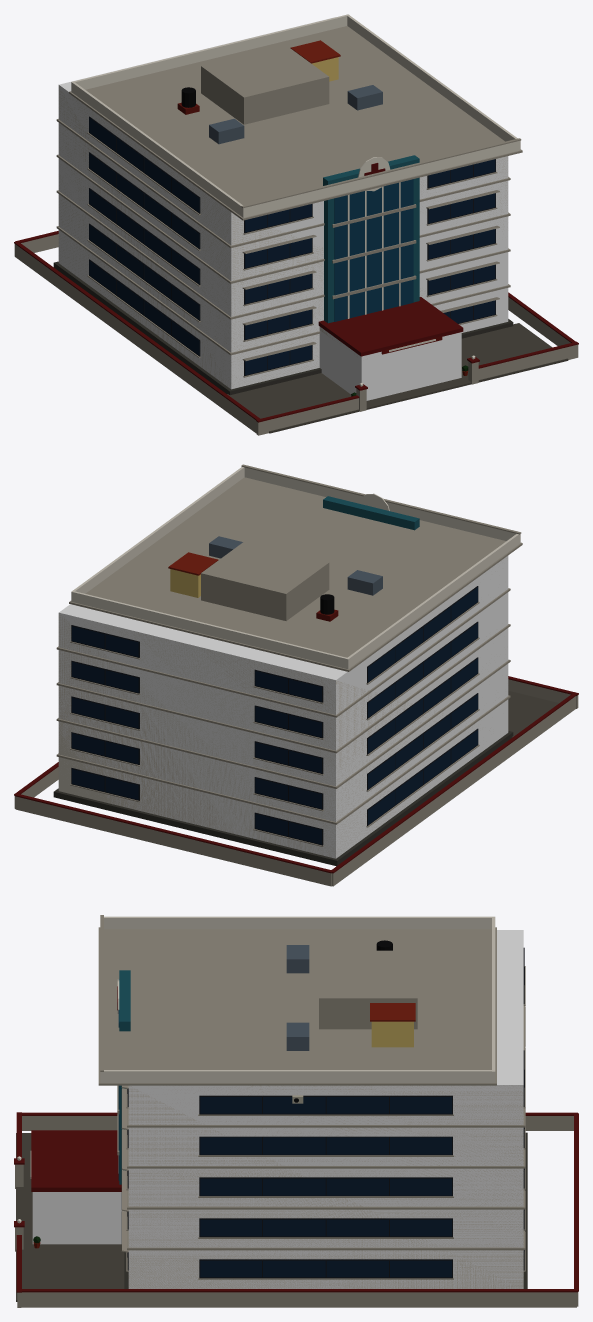
The model's file is B17_hospital_multi.glb.
3 renders of one model, top to bottom at view 1: azimuth 30°, elevation 25°; view 2: azimuth 150°, elevation 25°; view 3: azimuth 270°, elevation 25°, orthographic. The views are drawn at different scales.
Parts seen in each view (by area): view 1: LOD0, COL_Main, COL_Verandah; view 2: LOD0, COL_Main; view 3: LOD0, COL_Main, COL_Verandah.
Part boxes in pixels (bbox=[...]): LOD0: bbox=[14, 14, 578, 435]; COL_Main: bbox=[58, 17, 508, 389]; COL_Verandah: bbox=[319, 327, 461, 400]; LOD0: bbox=[14, 464, 578, 886]; COL_Main: bbox=[58, 556, 508, 858]; LOD0: bbox=[14, 915, 578, 1307]; COL_Main: bbox=[128, 930, 523, 1288]; COL_Verandah: bbox=[32, 1192, 125, 1244].
Size of what is drawn, in the model's own units: 30.08 by 19.1 by 40.06.
